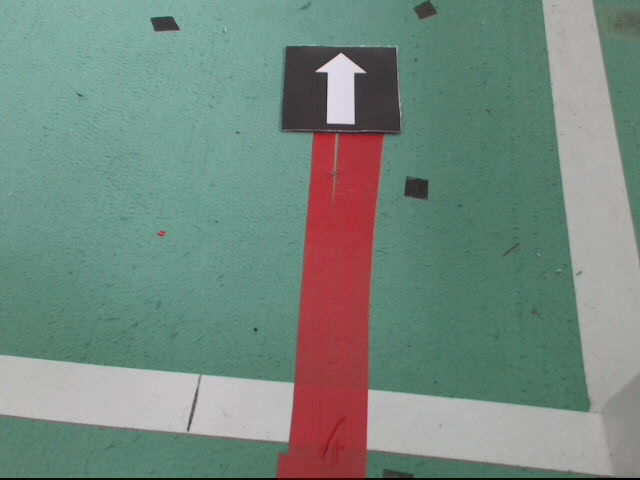straight: (281, 44, 401, 134)
